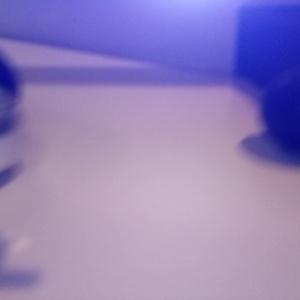alive_ball: (1, 51, 19, 131)
dead_ball: (261, 67, 300, 155)
